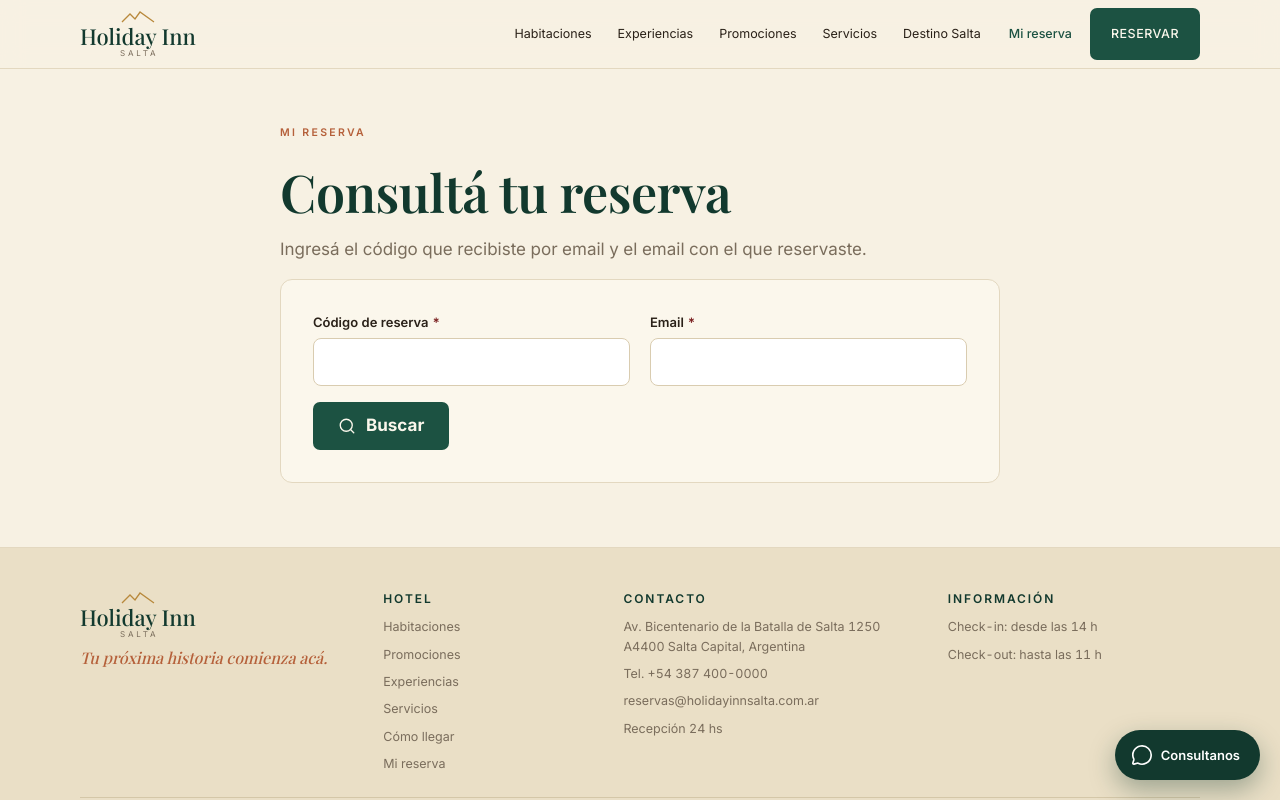
Test: las siete rutas /web renderizan › /web/mi-reserva: consulta con código + email
Expected: the heading "Consultá tu reserva" is shown, [280,157,731,226]
Type "3fa9c21b" into the field labelled "Código de reserva *".
click(472, 362); type("3fa9c21b")  # box [313,338,630,386]
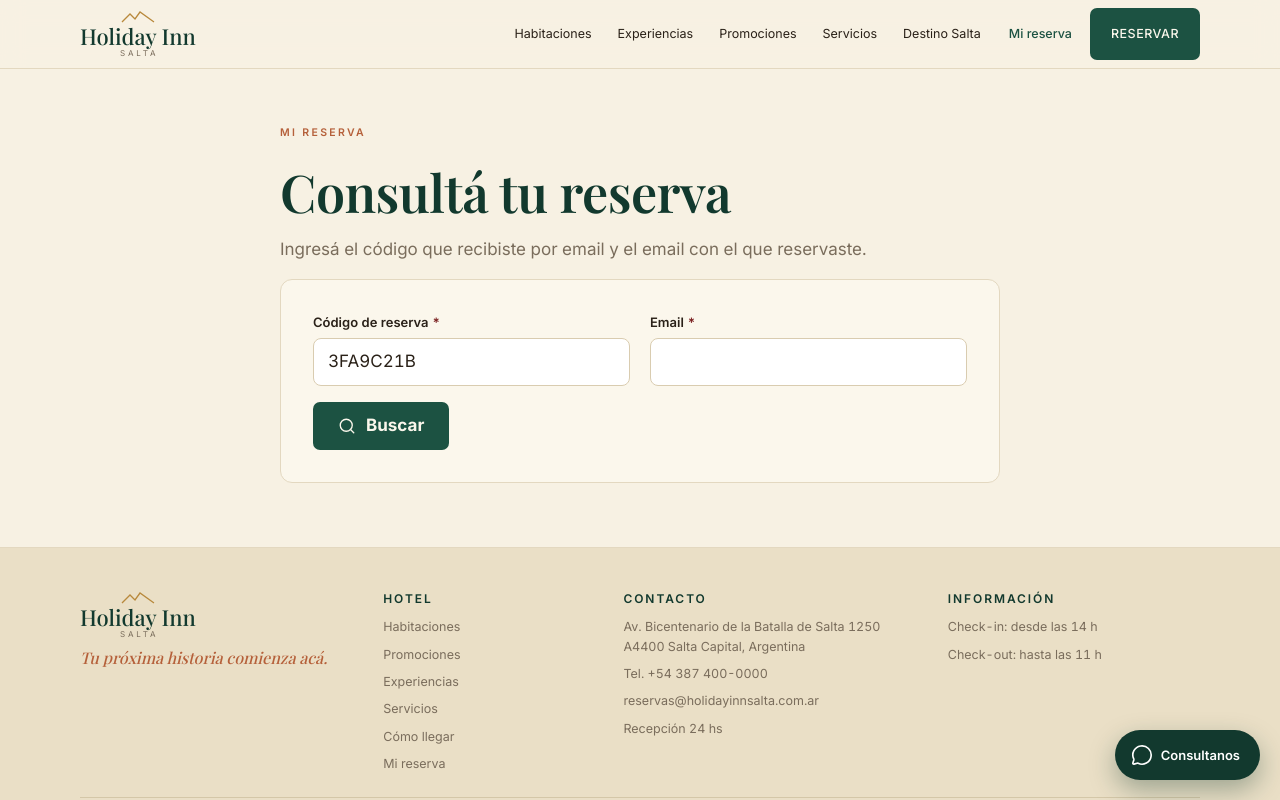
Type "demo@hotel.com" into the field labelled "Email *".
click(808, 362); type("demo@hotel.com")  # box [650,338,967,386]
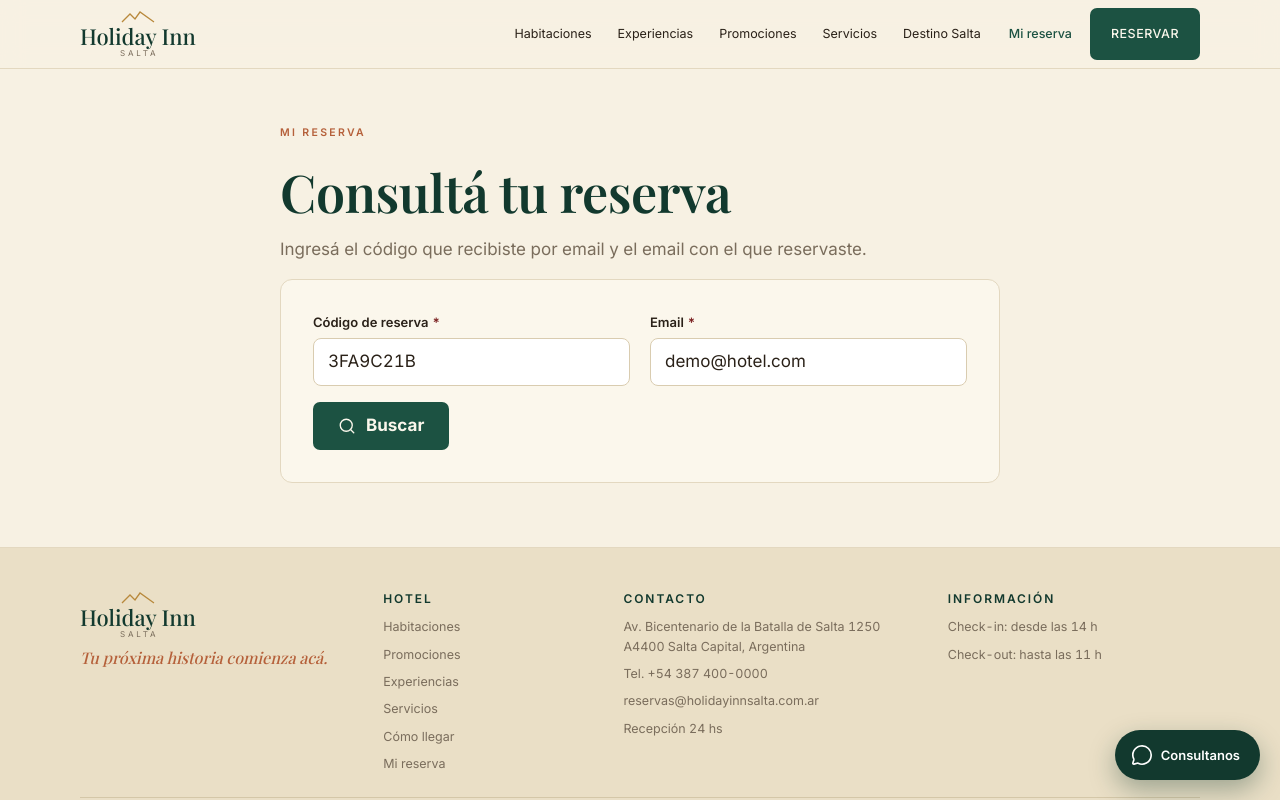
Click the button "Buscar".
click(381, 426)  # box [313,402,449,450]
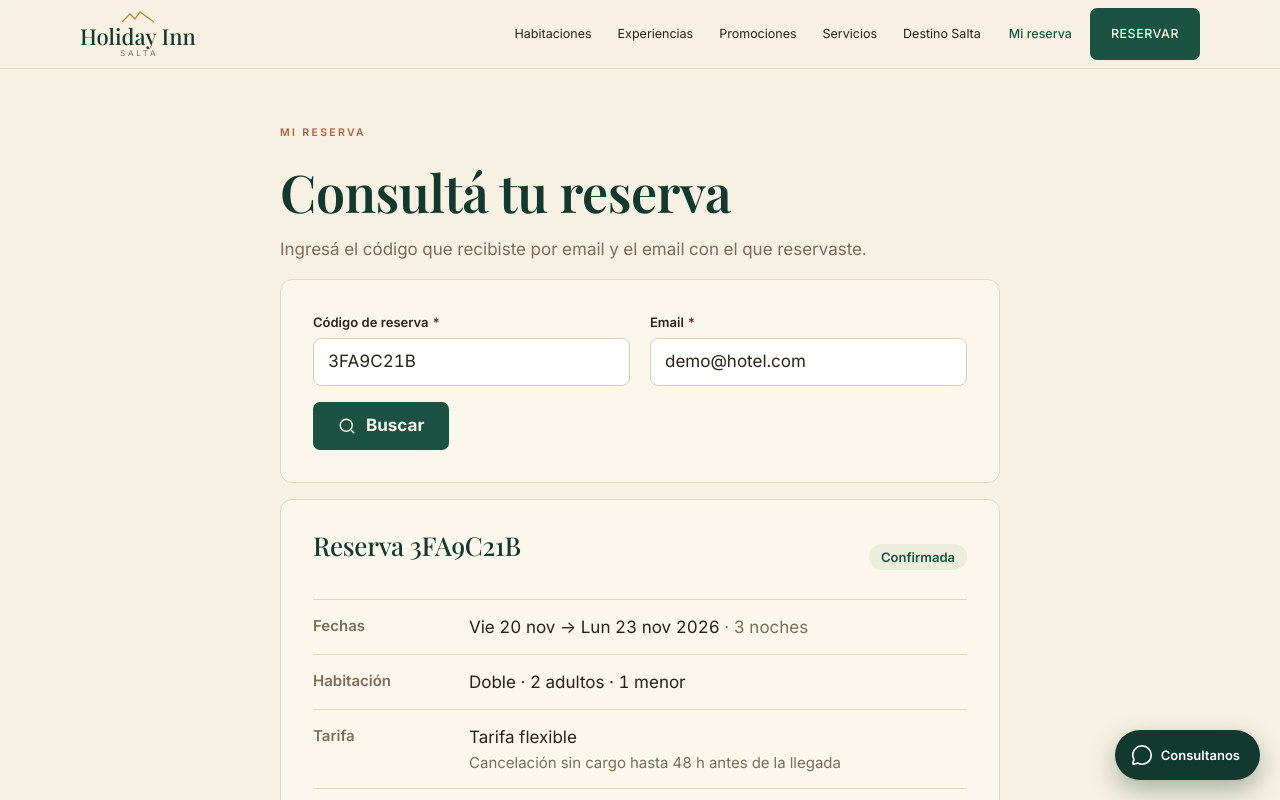
Result: the heading "Reserva 3FA9C21B" is shown at [313,532,521,560]
